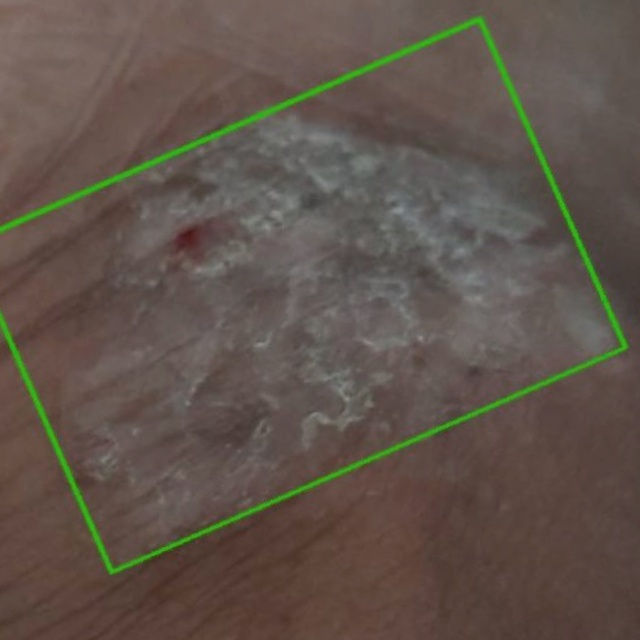Eczema: (0, 18, 625, 572)
